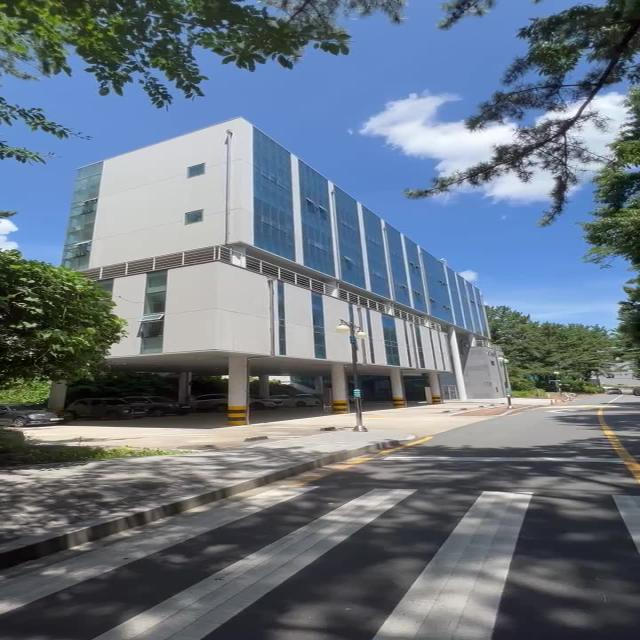building: (98, 144, 496, 399)
